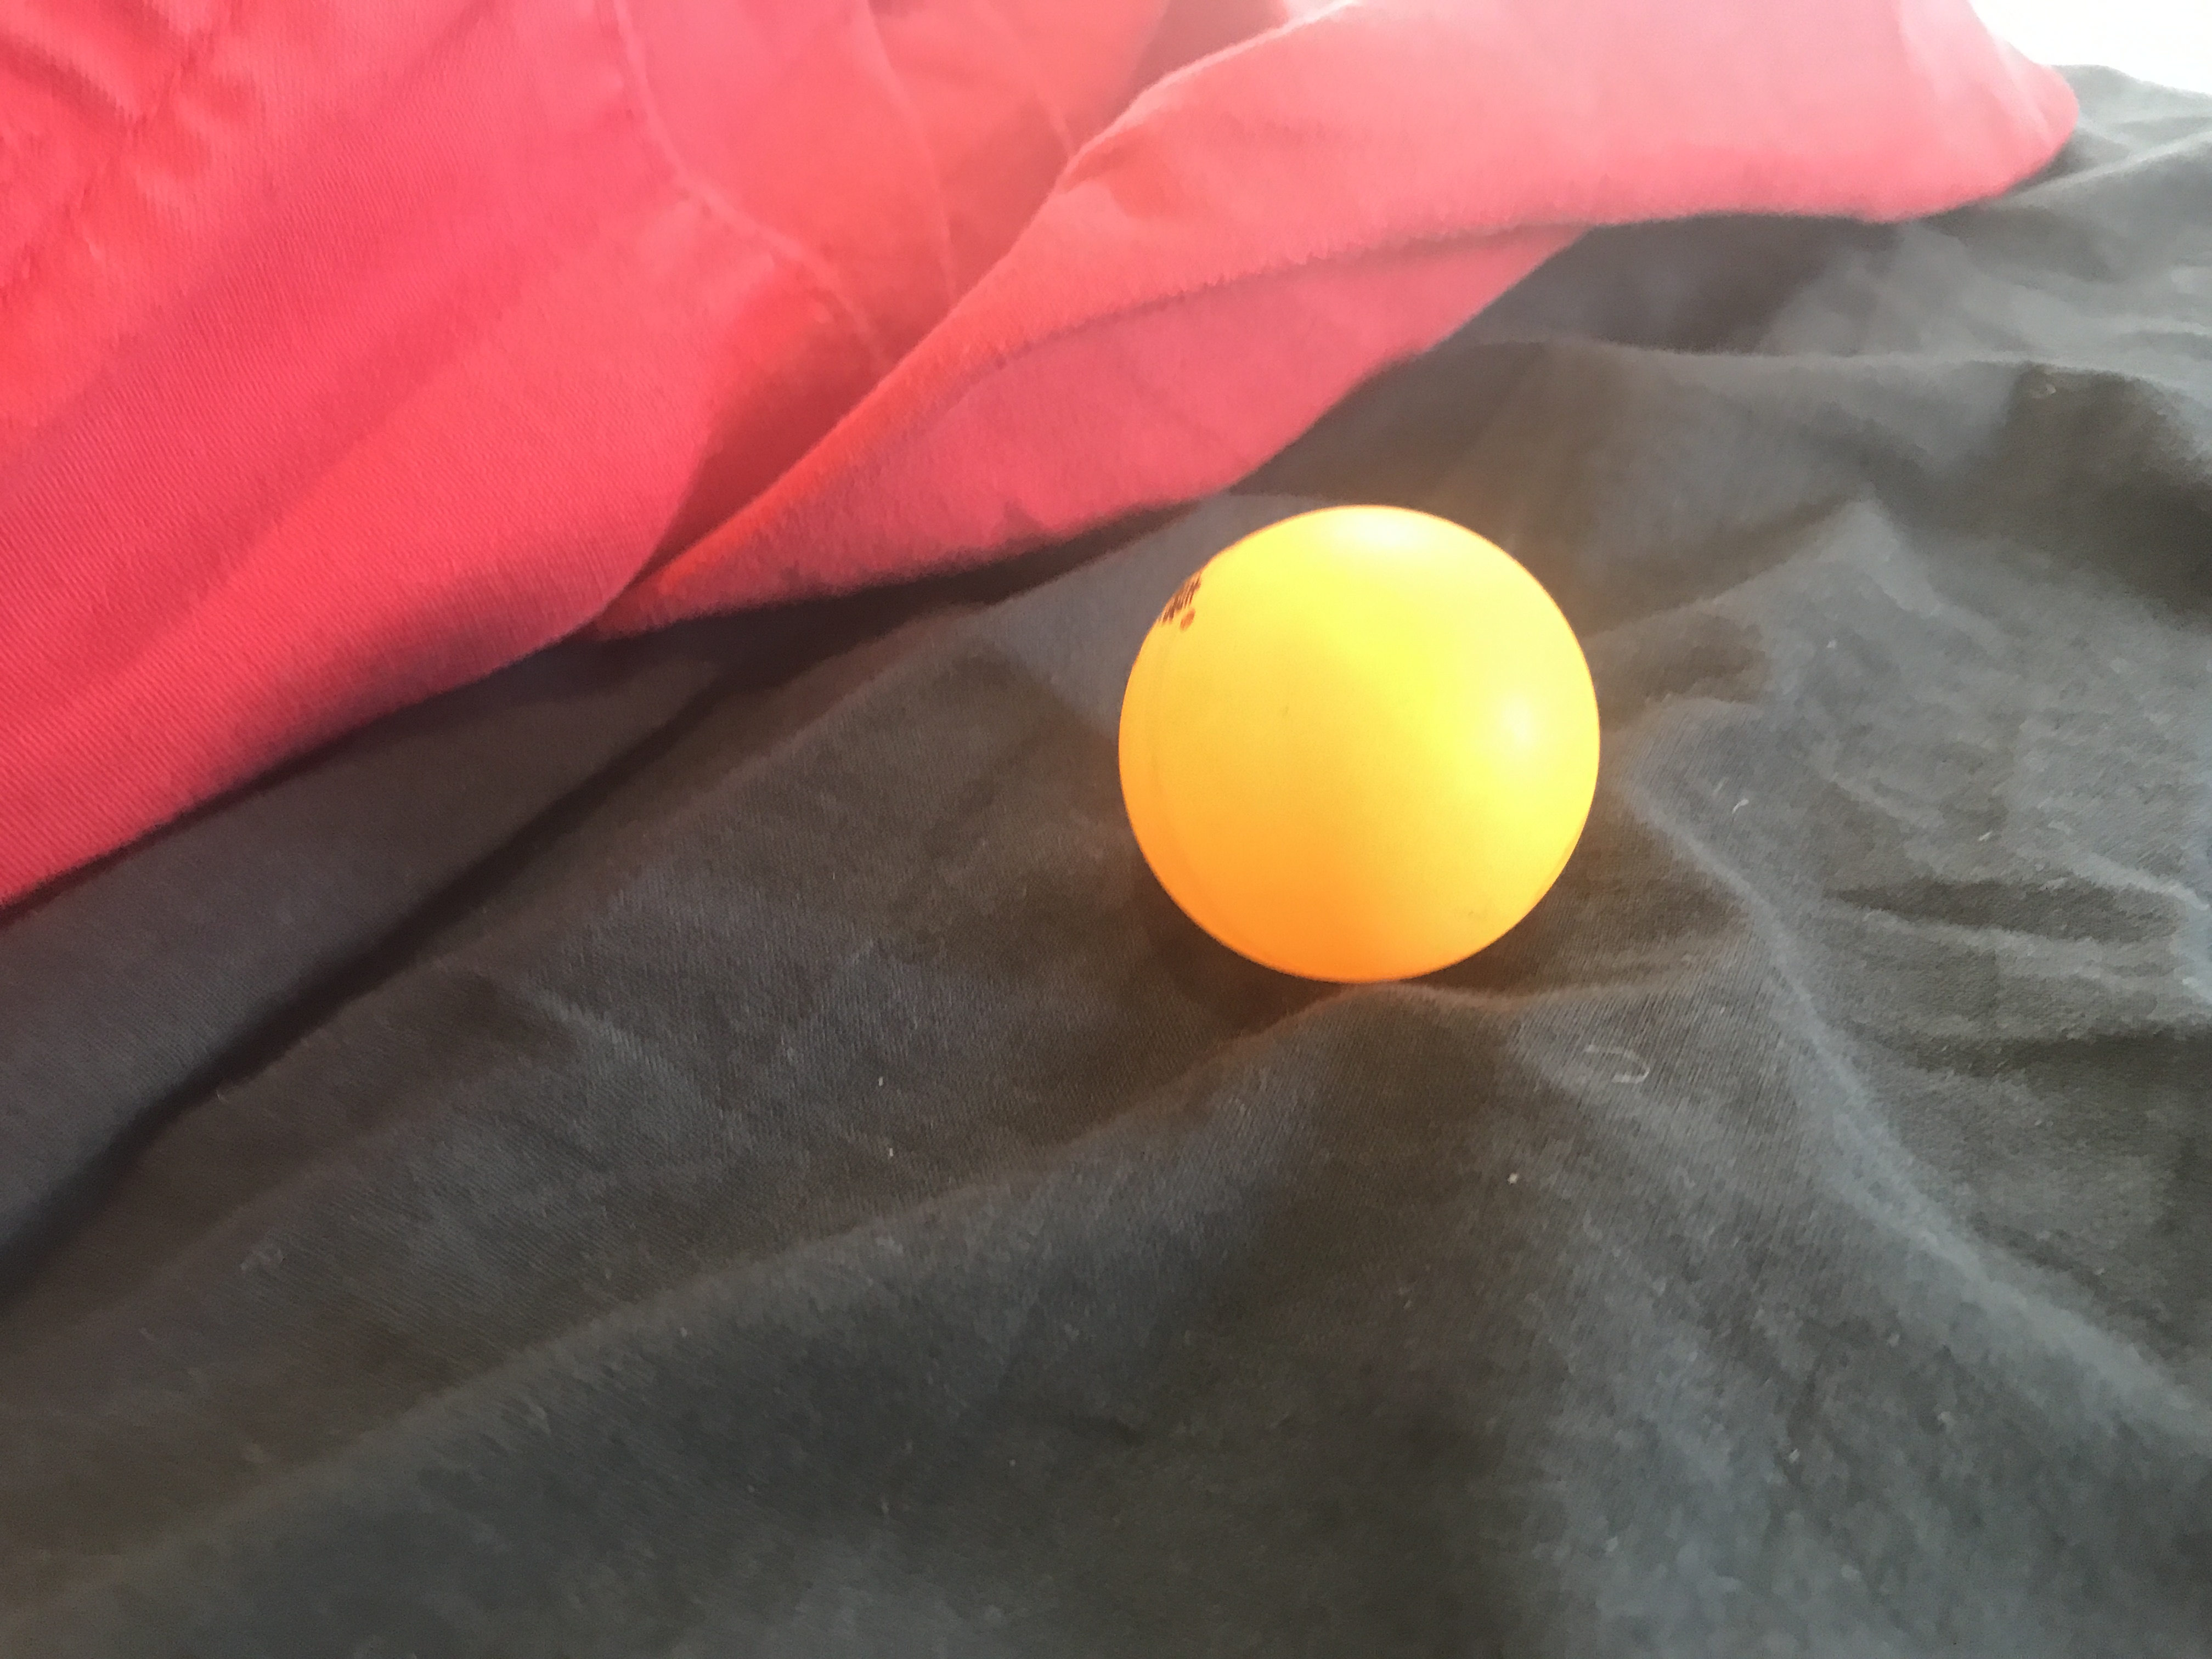pp: (1113, 504, 1604, 997)
